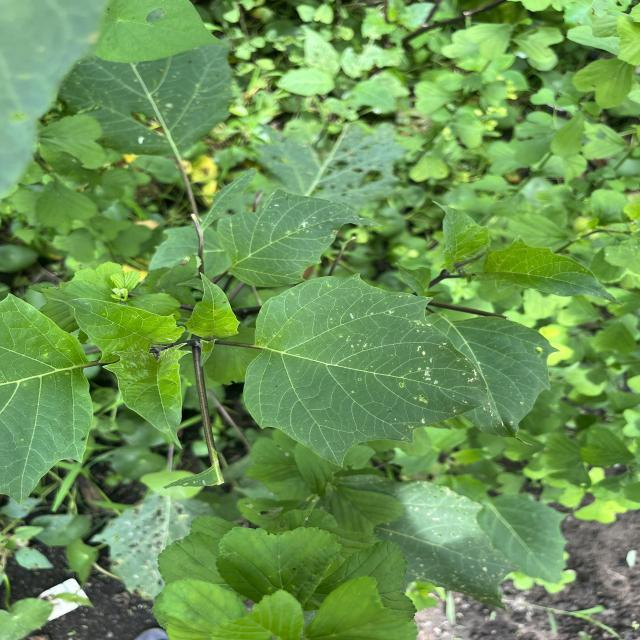Datura metal linn: (240, 270, 506, 469), (472, 232, 626, 308), (99, 340, 195, 452), (44, 294, 190, 366), (180, 270, 246, 342)
